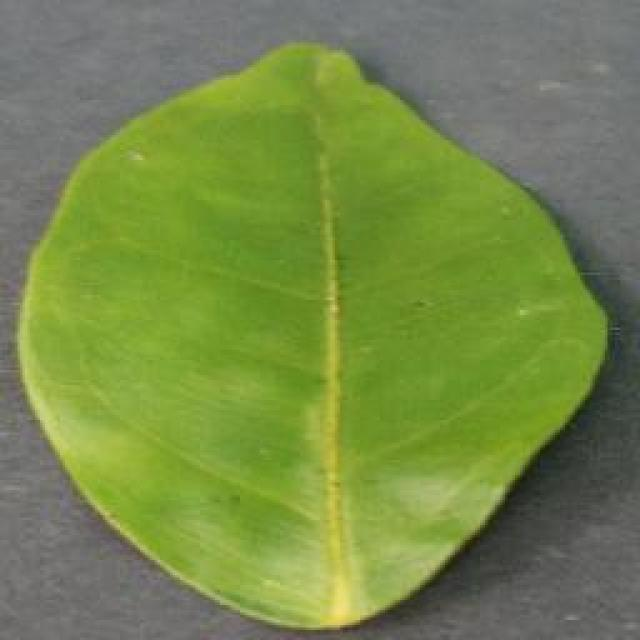Orange_Haunglongbing_Citrus_greening: (60, 109, 541, 540)
